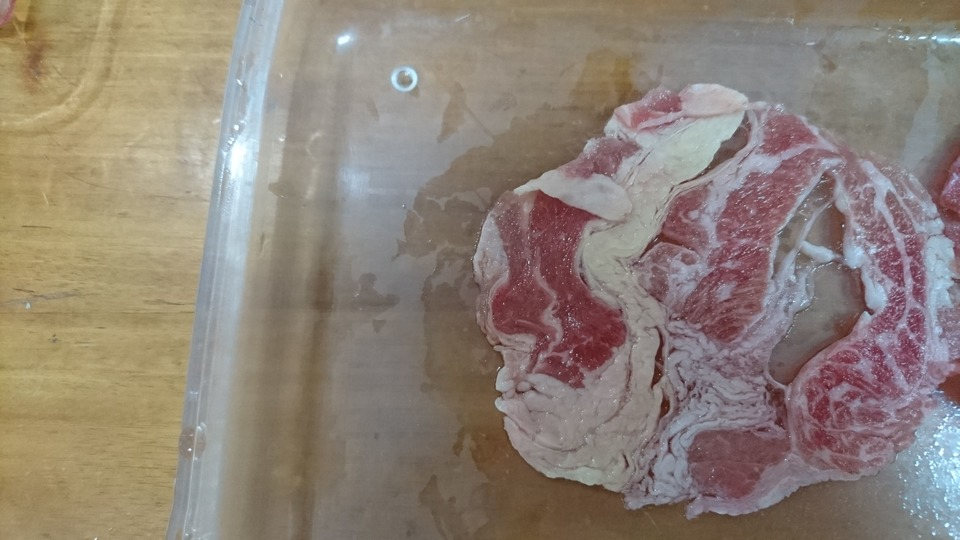restructured meat: (459, 61, 953, 507)
